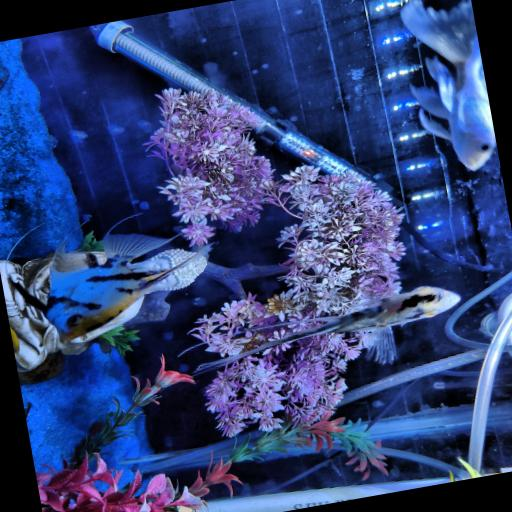Fish: (194, 286, 459, 374), (29, 233, 209, 342), (400, 0, 495, 170)
